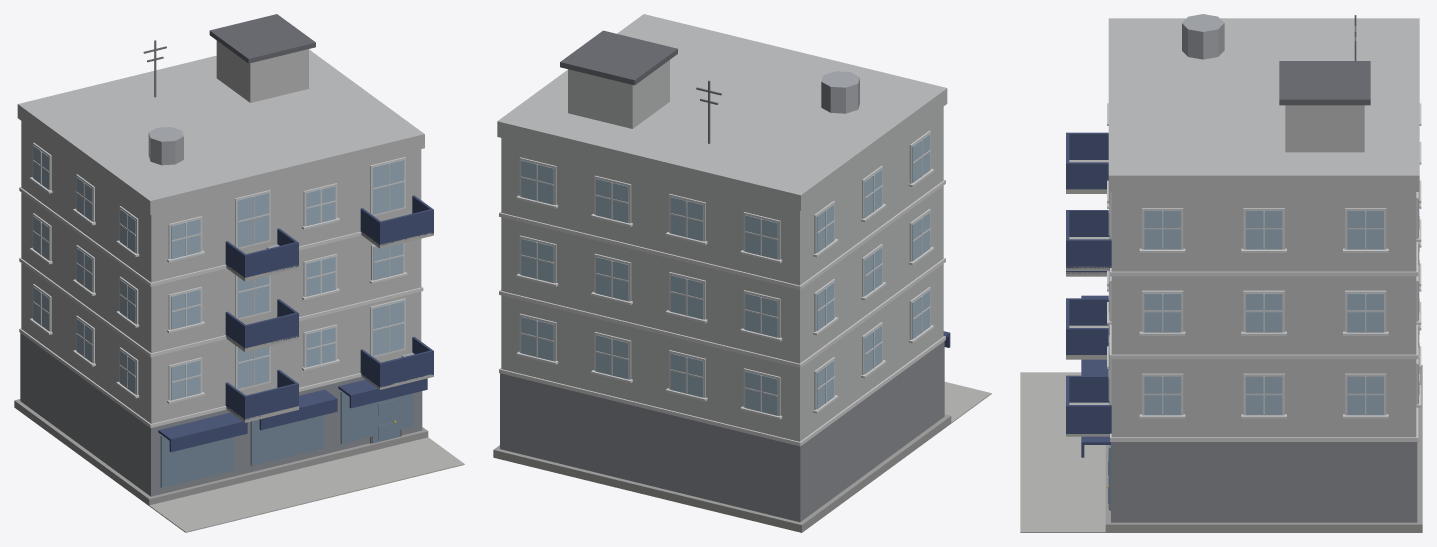
The model's file is Apartman_05.glb.
The picture shows the model from 3 angles, left to right: view 1: azimuth 30°, elevation 25°; view 2: azimuth 150°, elevation 25°; view 3: azimuth 270°, elevation 25°; orthographic projection. The views are drawn at different scales.
Visible parts, largest first — view 1: Apartman_05; view 2: Apartman_05; view 3: Apartman_05.
Boxes of the visible parts, <box> form: Apartman_05: <box>14,14,464,532</box>; Apartman_05: <box>493,14,991,532</box>; Apartman_05: <box>1020,14,1422,532</box>.
Bounding box in the file's own units: 12.4 × 15.3 × 13.2.
